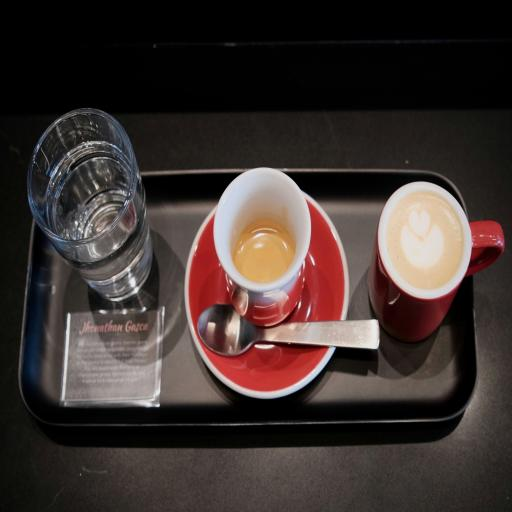phone: (369, 182, 505, 343), (213, 167, 312, 330)
